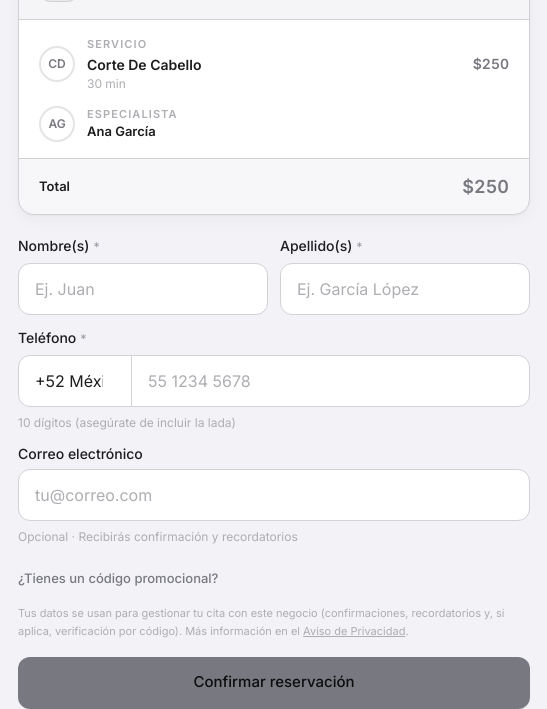
ClientForm — código promocional › código válido y aplicado: muestra el código y el mensaje de ahorro
(page scrolled)
Click the button "¿Tienes un código promocional?" at (118, 579), box [18,569,218,588]
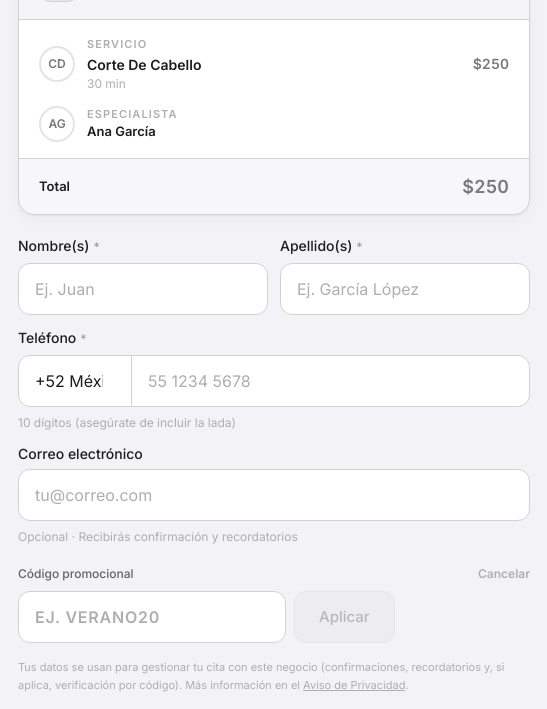
Type "VERANO10" into the field with placeholder "Ej. VERANO20" at (152, 617), box [18,591,286,643]
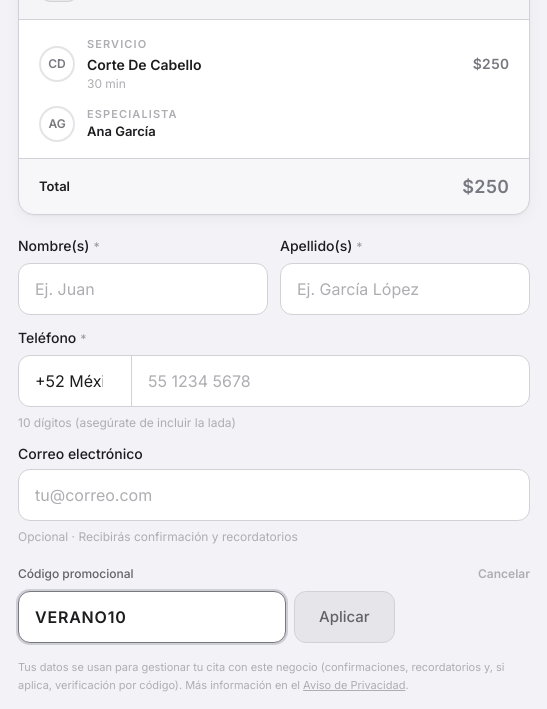
Click the button "Aplicar" at (344, 617), box [294,591,395,643]
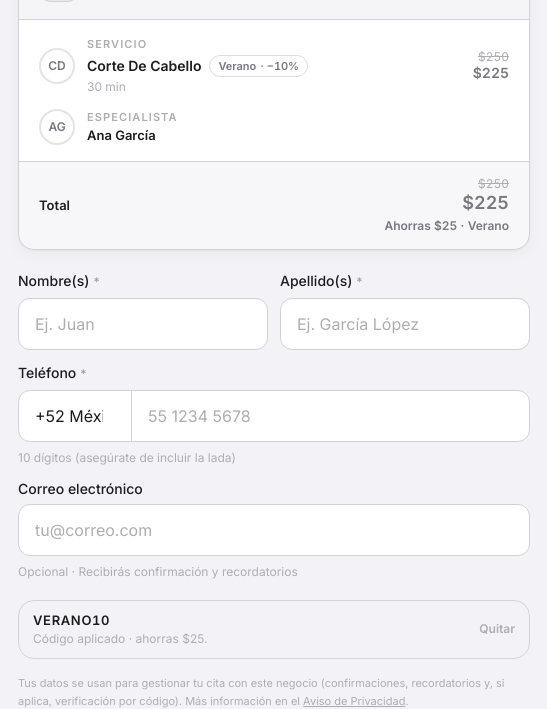
Expected: the text "VERANO10" is shown, [33,612,110,628]
Expected: the text "Código aplicado · ahorras $25." is shown, [33,630,208,648]
